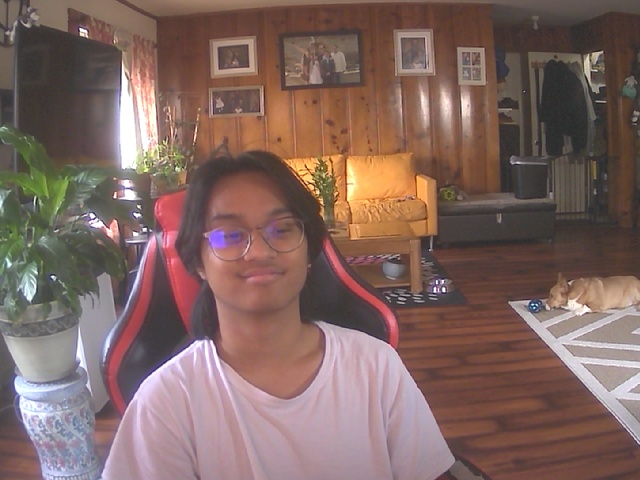happy: (191, 166, 316, 330)
